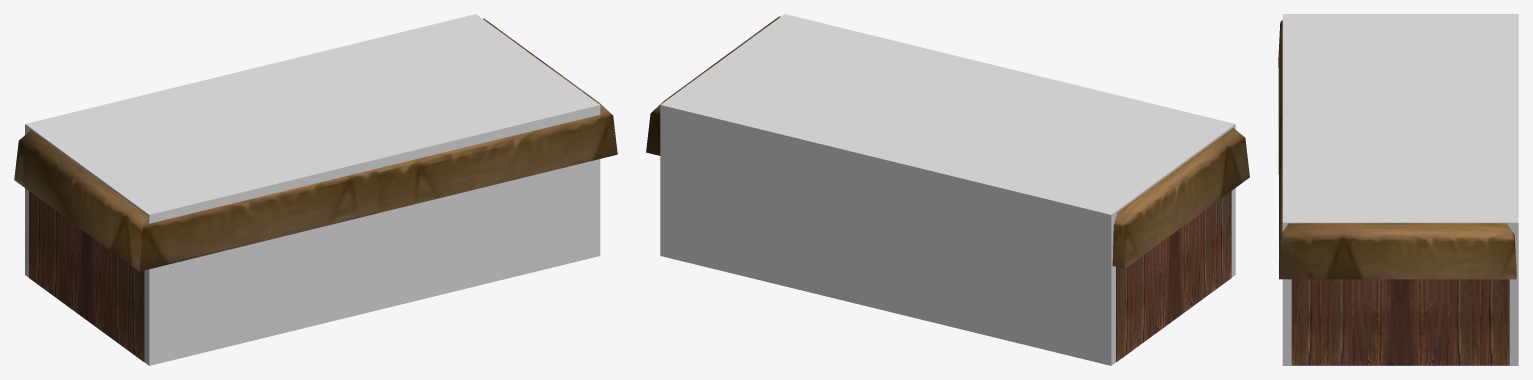
Rendered from buzhuo.FBX.
3 views of the same model, side by side, from view 1: azimuth 30°, elevation 25°; view 2: azimuth 150°, elevation 25°; view 3: azimuth 270°, elevation 25° (orthographic). The views are drawn at different scales.
Visible parts, largest first — view 1: buzhuo-col, buzhuo; view 2: buzhuo-col, buzhuo; view 3: buzhuo-col, buzhuo.
Boxes of the visible parts, <box> form: buzhuo-col: <box>25,14,600,365</box>; buzhuo: <box>14,18,617,361</box>; buzhuo-col: <box>660,14,1235,365</box>; buzhuo: <box>646,16,1249,361</box>; buzhuo-col: <box>1282,14,1518,365</box>; buzhuo: <box>1278,20,1516,365</box>.
Size of the model in its own units: 3.32 by 1 by 1.52.
